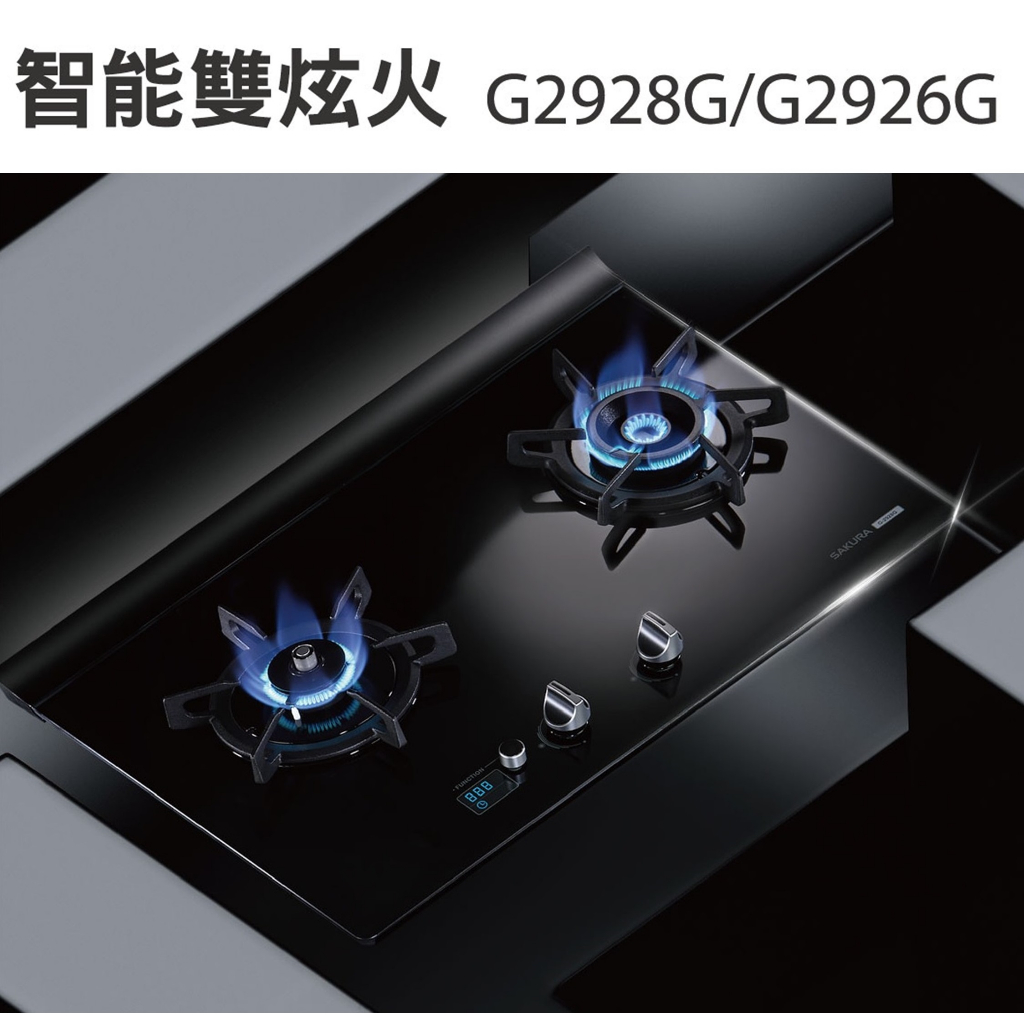gasoven: (7, 246, 962, 940)
